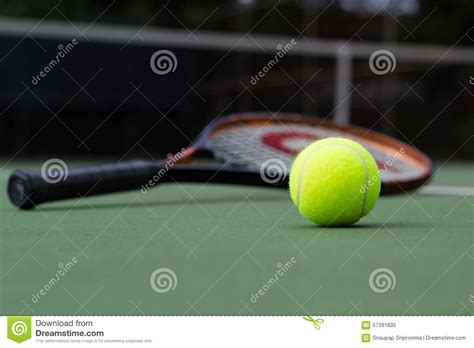tennis_ball: (288, 137, 381, 226)
